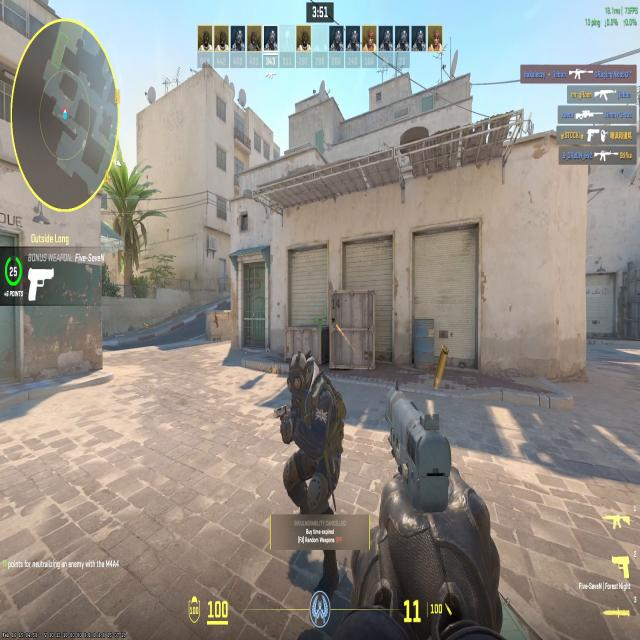player: (259, 341, 356, 603)
